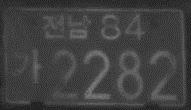2: (149, 49, 178, 102), (51, 47, 80, 99), (82, 48, 111, 100)
4: (124, 13, 145, 41)
8: (116, 50, 144, 101), (100, 13, 121, 40)
가: (13, 48, 43, 85)
전남_O: (41, 14, 91, 39)
